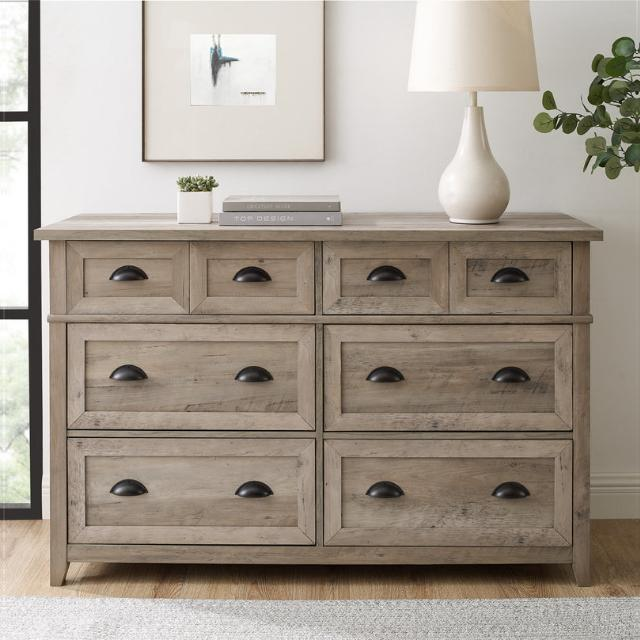dresser: (32, 210, 609, 591)
lamp: (405, 0, 543, 222)
